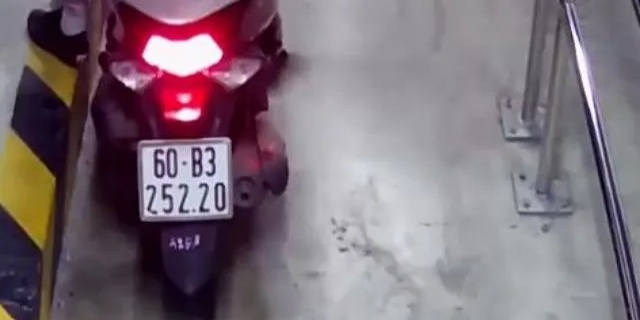bien_so: (139, 136, 233, 222)
